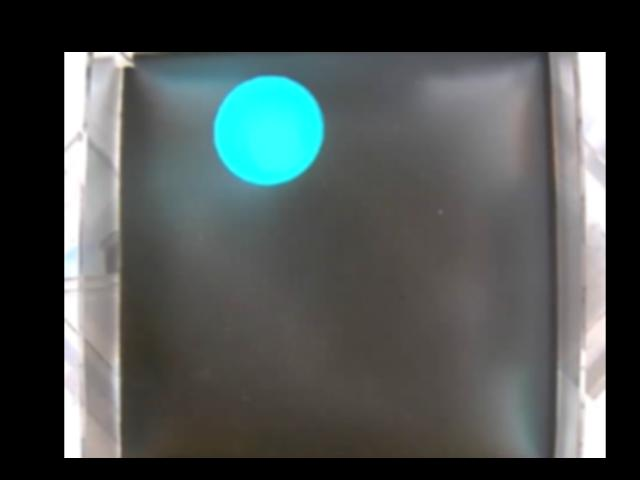Cup: (213, 74, 325, 189)
